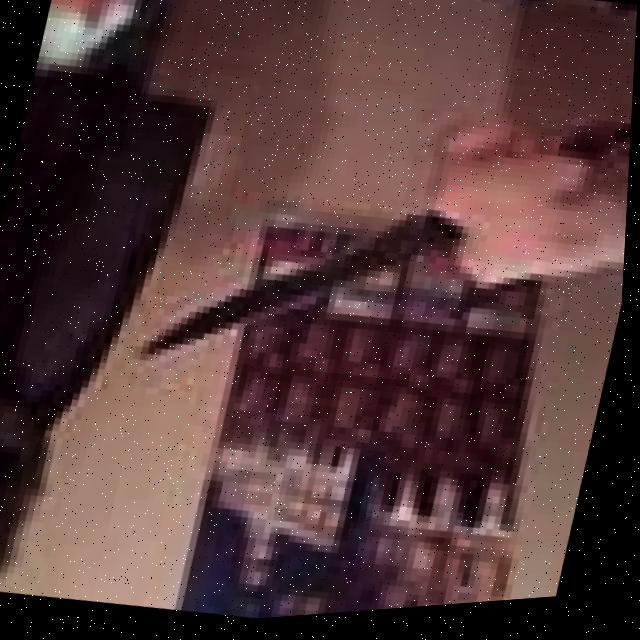knife: (131, 180, 464, 418)
